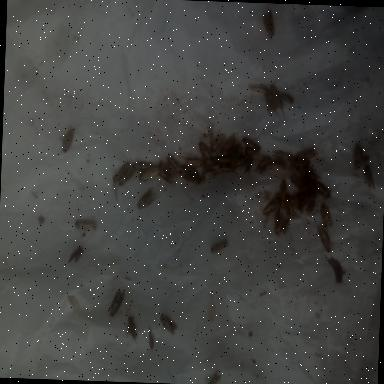pbw: (270, 85, 286, 118), (107, 288, 124, 318), (60, 124, 76, 154), (125, 315, 140, 345), (135, 188, 155, 210), (112, 161, 130, 185), (262, 8, 276, 38), (294, 145, 320, 161), (316, 226, 332, 252), (138, 166, 158, 184), (210, 130, 226, 152), (158, 315, 176, 334), (363, 164, 376, 190), (320, 204, 335, 226), (164, 153, 182, 171), (262, 196, 278, 216), (276, 178, 288, 204), (74, 220, 94, 235), (219, 134, 234, 154), (130, 159, 154, 171), (158, 161, 176, 177), (66, 246, 82, 264), (178, 172, 200, 185), (354, 142, 364, 170), (242, 138, 262, 152), (315, 183, 332, 199), (197, 143, 214, 159), (273, 150, 293, 162), (210, 239, 226, 254), (304, 198, 316, 218), (156, 169, 171, 184), (182, 164, 200, 176), (206, 370, 221, 384), (285, 194, 294, 217), (274, 216, 284, 236), (243, 156, 253, 176), (270, 160, 286, 172), (281, 216, 290, 237), (293, 196, 302, 216), (272, 208, 282, 226), (184, 159, 202, 169), (246, 85, 268, 93), (146, 326, 154, 348), (201, 172, 218, 182), (212, 154, 233, 162), (234, 155, 248, 167), (204, 162, 220, 172), (280, 93, 294, 104), (215, 164, 234, 172), (289, 176, 300, 189), (276, 202, 286, 216), (230, 153, 238, 170), (244, 148, 260, 156), (258, 158, 270, 168), (294, 160, 310, 167), (234, 145, 243, 154), (208, 130, 212, 144)
